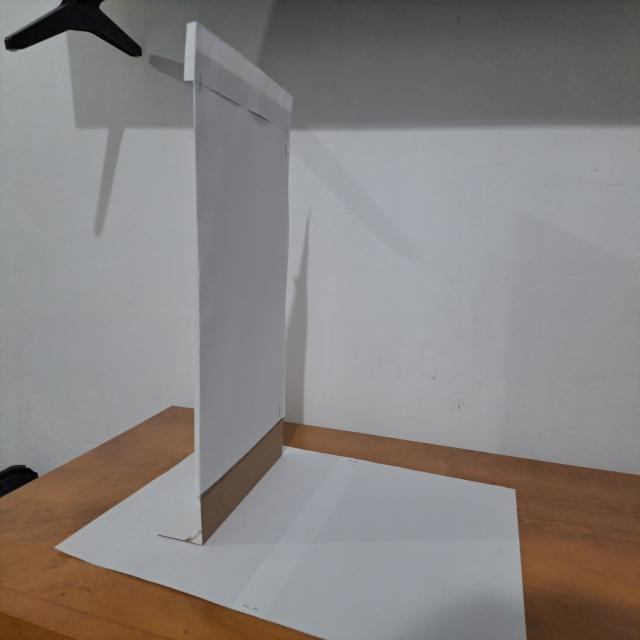wall: (184, 14, 298, 550)
